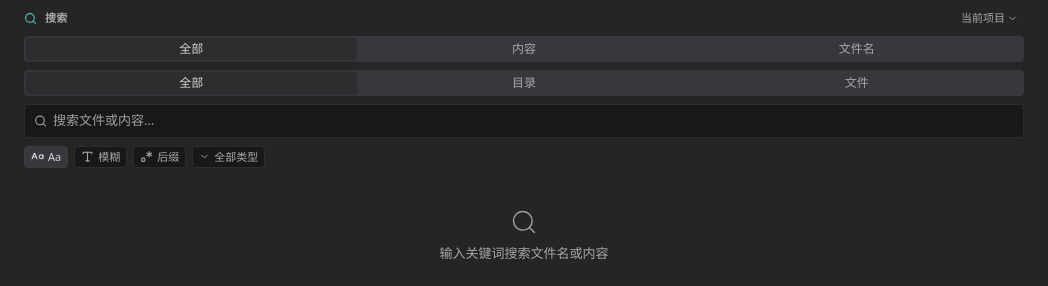
Scenario: SearchPanel › shows copy actions on a filename hit context menu
This screenshot has width=1048, height=286.
Type "app" into the field with placeholder "搜索文件或内容…" at (524, 121), box x1=24 y1=104 x2=1024 y2=138
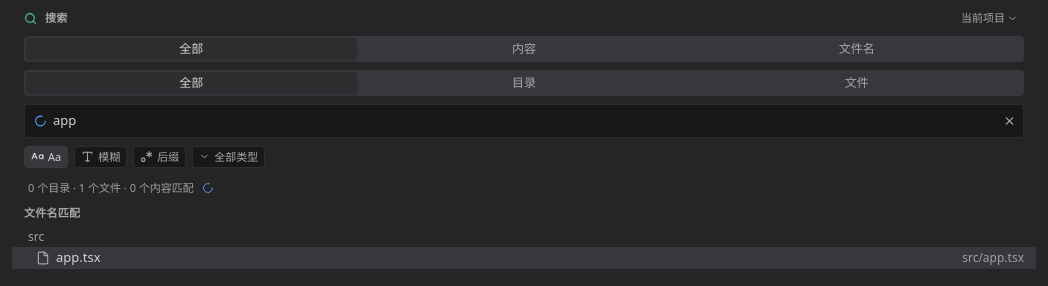
Check: the text "app.tsx" is shown
Right-click the text "app.tsx" at (78, 258), box x1=56 y1=248 x2=101 y2=267
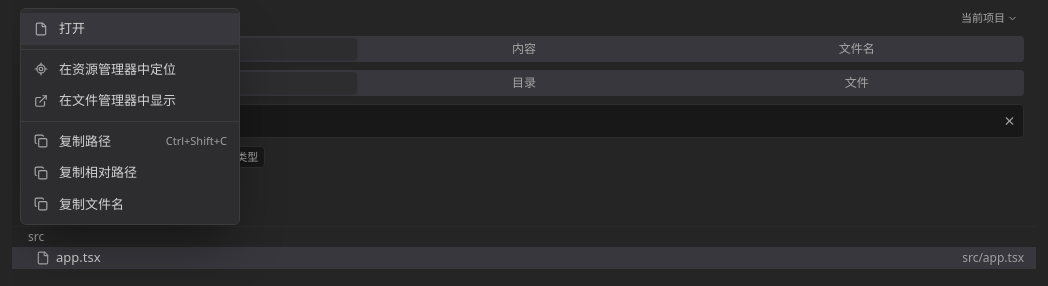
Check: the text "复制路径" is shown, box x1=59 y1=132 x2=111 y2=150
Check: the text "复制相对路径" is shown, box x1=59 y1=163 x2=137 y2=181
Check: the text "复制文件名" is shown, box x1=59 y1=194 x2=124 y2=212
